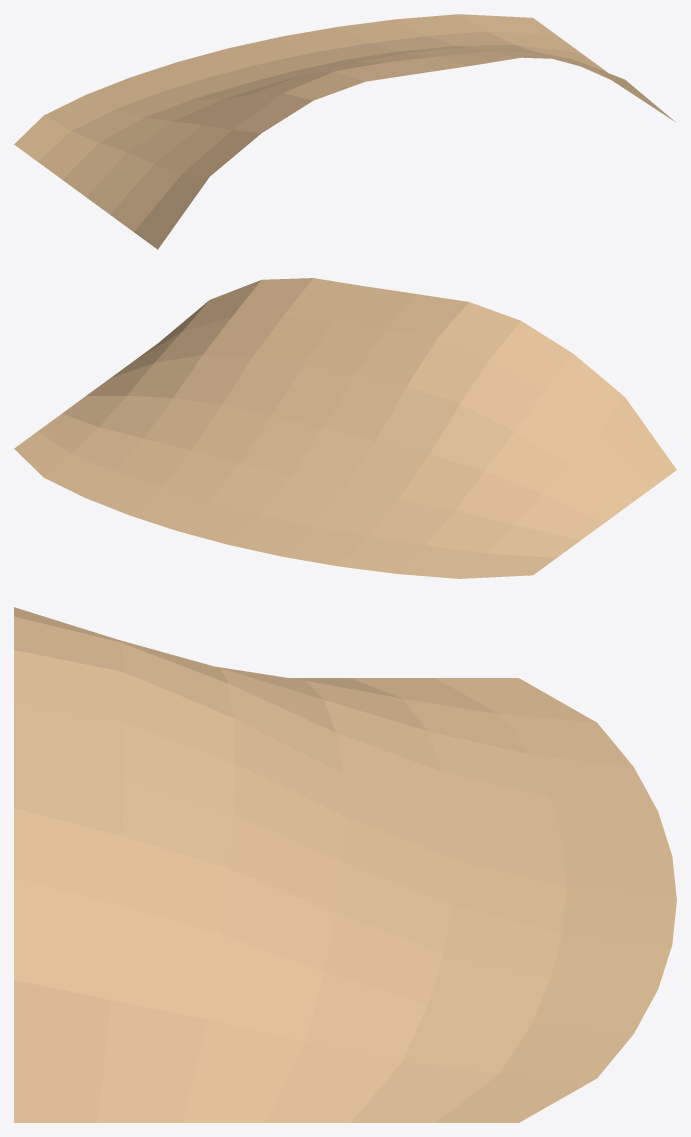
File: SM_DST_Prop_Sand_Drift_C.fbx
The picture shows the model from 3 angles, top to bottom: view 1: azimuth 30°, elevation 25°; view 2: azimuth 150°, elevation 25°; view 3: azimuth 270°, elevation 25°; orthographic projection. The views are drawn at different scales.
Visible parts, largest first — view 1: SM_DST_Prop_Sand_Drift_C.006; view 2: SM_DST_Prop_Sand_Drift_C.006; view 3: SM_DST_Prop_Sand_Drift_C.006.
Boxes of the visible parts, x1,y1,x2,y2 form: SM_DST_Prop_Sand_Drift_C.006: (14, 14, 674, 249); SM_DST_Prop_Sand_Drift_C.006: (14, 278, 676, 578); SM_DST_Prop_Sand_Drift_C.006: (14, 607, 676, 1122).
Size of the model in its own units: 2 by 0.4321 by 1.26.
